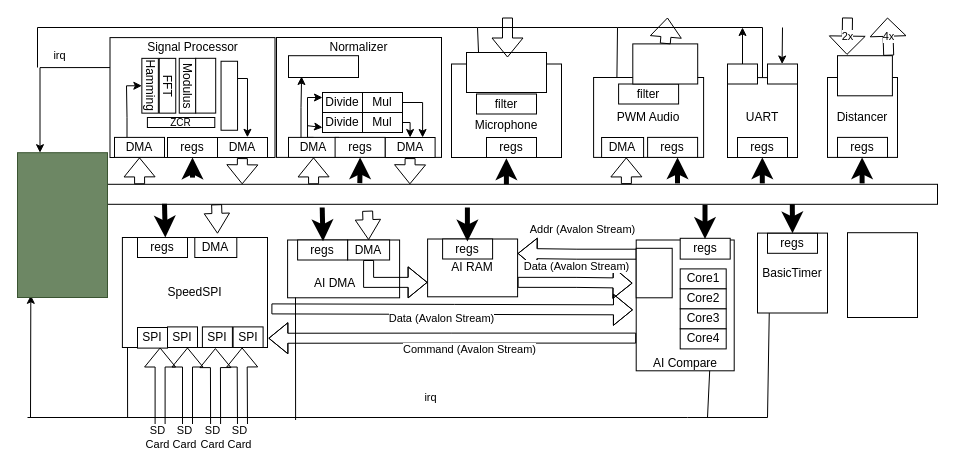
The diagram is 955 pixels wide and 468 high, and some of its shapes have lost their labels. The shapes that lost their labels are listed below. From the top down, each one's centre as x and y in pixels, then its label:
At point 323,66: "Max".
At point 506,72: "I2C".
At point 665,63: "PWM 16x".
At point 742,73: "tx".
At point 782,73: "rx".
At point 864,75: "GPIO".
At point 205,85: "Mel Scale".
At point 229,95: "Package".
At point 62,225: "Nios IIe".
At point 653,272: "IDMA".
At point 882,275: "PLL".
